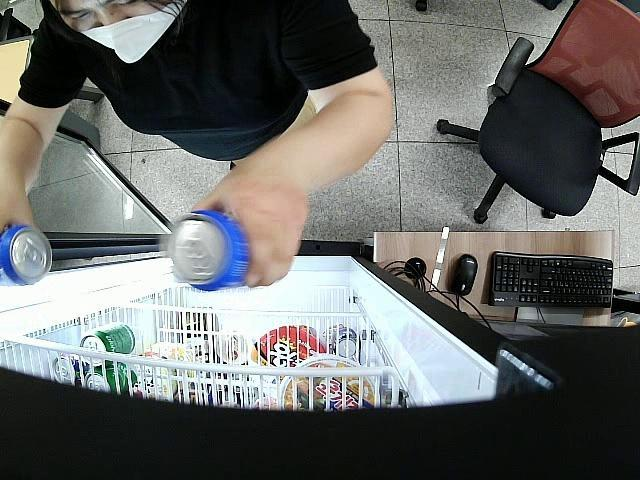13_pocariSweat: (172, 208, 252, 291), (2, 225, 52, 288)
